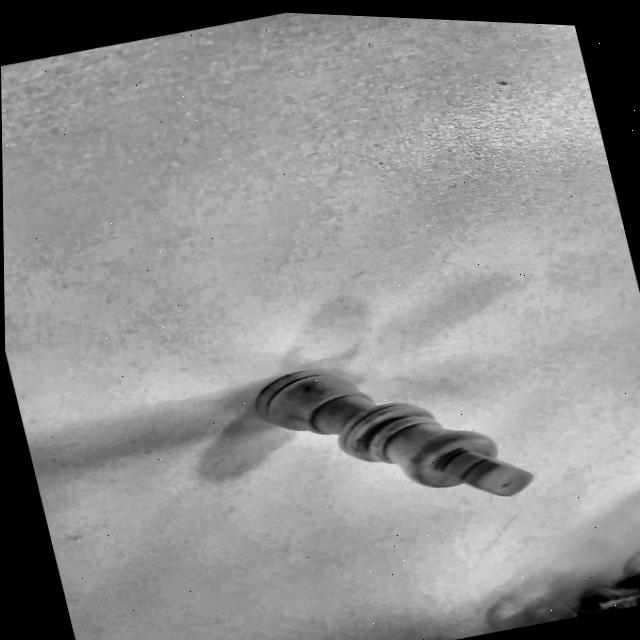white-king: (252, 369, 529, 496)
